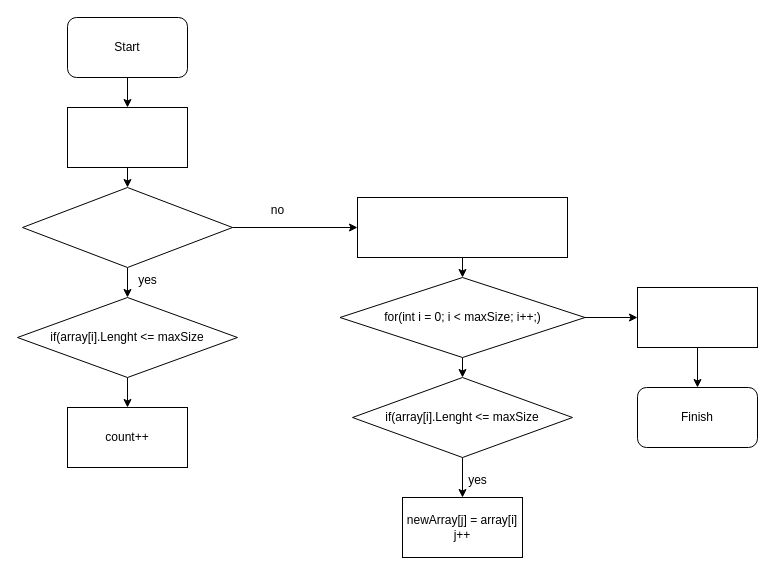
Image size: 775x575. Some labels were removed from this diagram. Here are the shapes that lost their labels. From the top down, the box of each, then its label:
(66, 106, 188, 168): string[] array maxSize = 3 count = 0
(22, 186, 232, 268): for(int i = 0; i < array.Lenght; i++;)
(356, 196, 568, 258): string[] newArray = new string[count] int j = 0
(636, 286, 758, 348): print(newArray)
